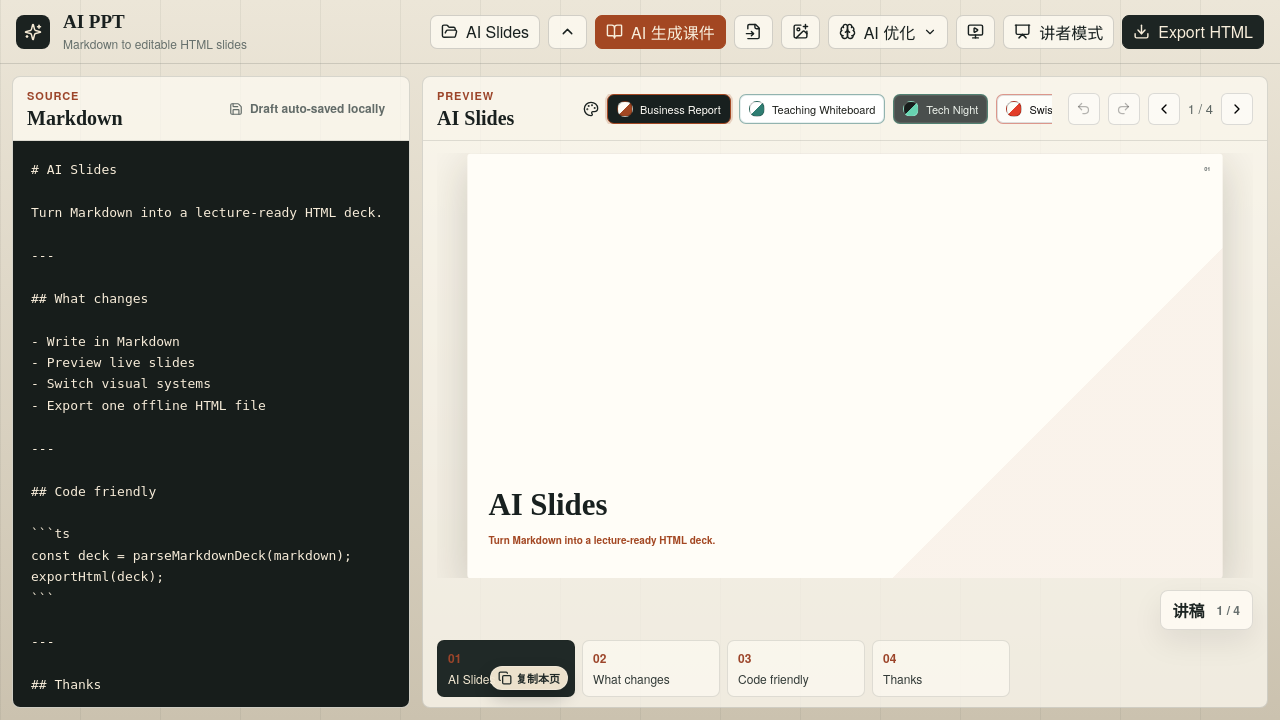
Test case: App image insertion controls › requests fullscreen when presentation mode starts
Click the button with test id "present-deck".
click(976, 32)  # box [956,14,995,48]
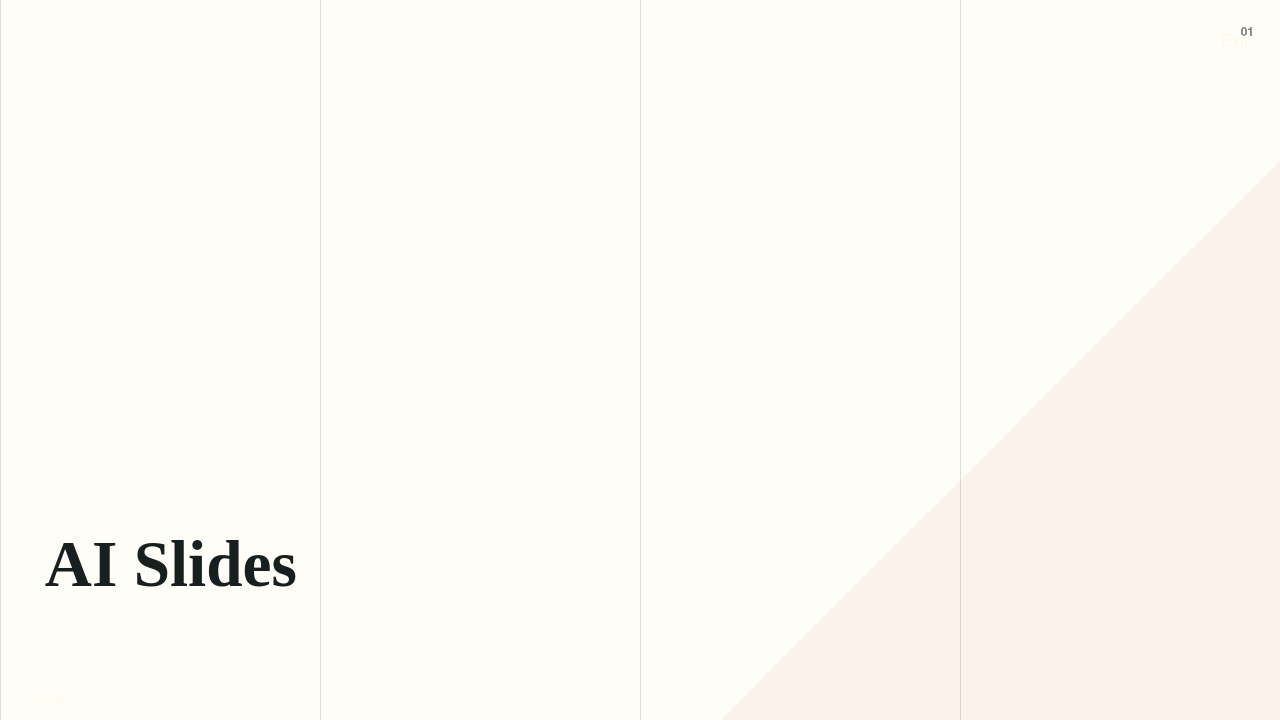
Expected: the dialog named "Presentation preview" is shown
